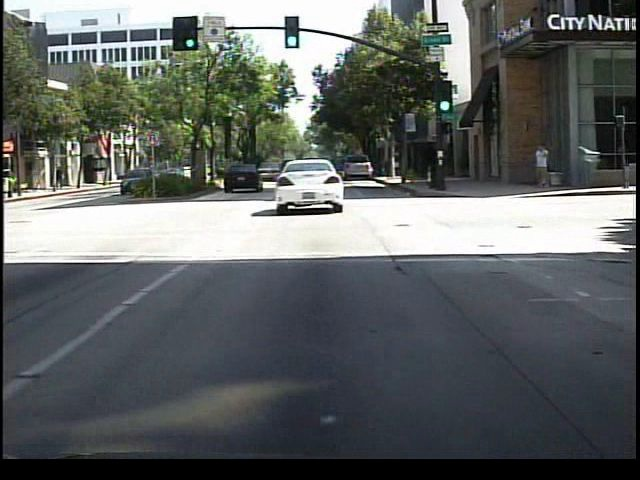person: (531, 141, 555, 194), (54, 162, 69, 196)
